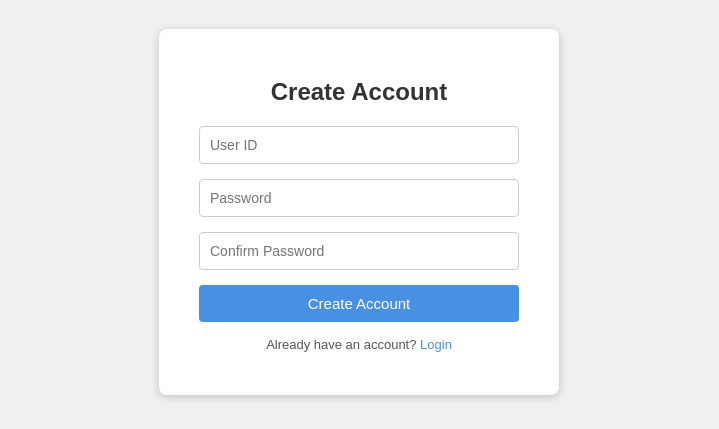
Test: E2E Integration Tests › supports create-account to dashboard navigation with persisted auth
Type "alice" into the field with placeholder "User ID".
click(359, 146); type("alice")  # box x1=199 y1=126 x2=519 y2=164
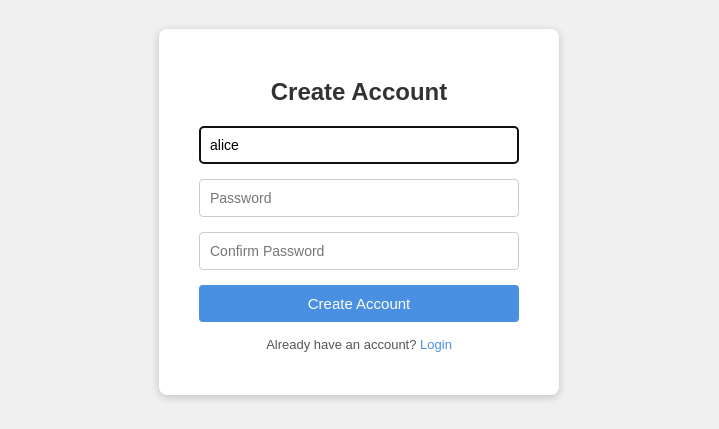
Type "pass123" into the password field with placeholder "Password".
click(359, 198); type("pass123")  # box x1=199 y1=180 x2=519 y2=218
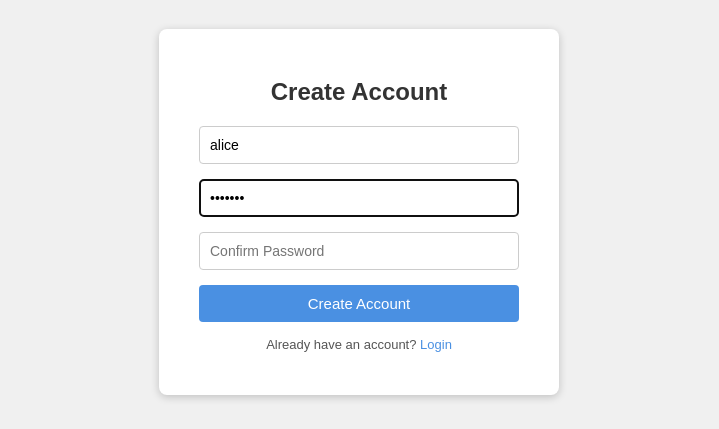
Type "pass123" into the password field with placeholder "Confirm Password".
click(359, 252); type("pass123")  # box x1=199 y1=232 x2=519 y2=270
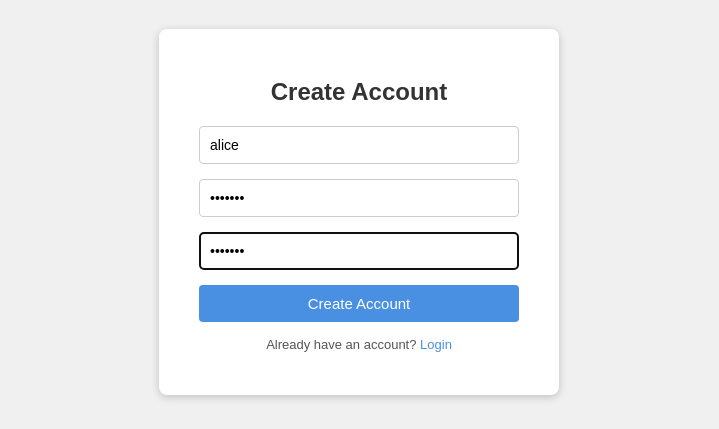
Click the button "Create Account".
click(359, 304)  # box x1=199 y1=286 x2=519 y2=322
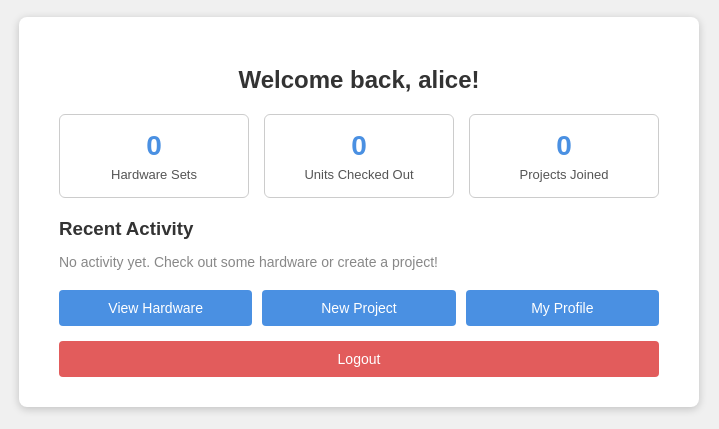
Expected: the heading "Welcome back, alice!" is shown, x1=238 y1=66 x2=480 y2=94
